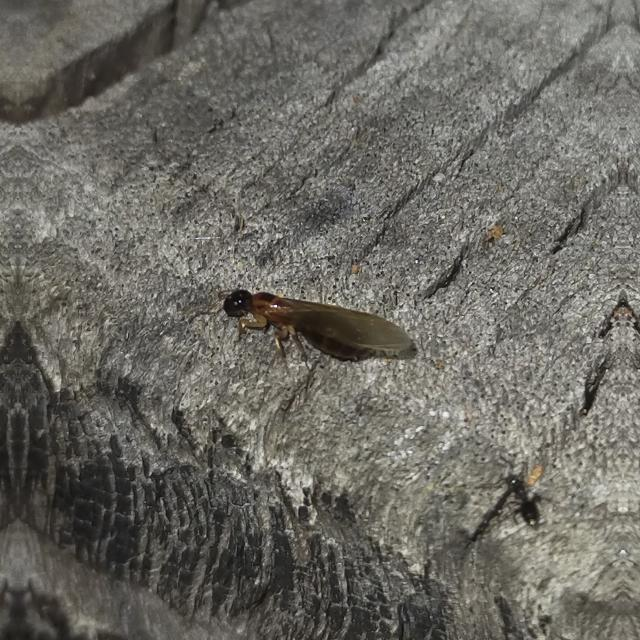Colobopsis: (191, 246, 411, 382), (504, 462, 552, 532)
